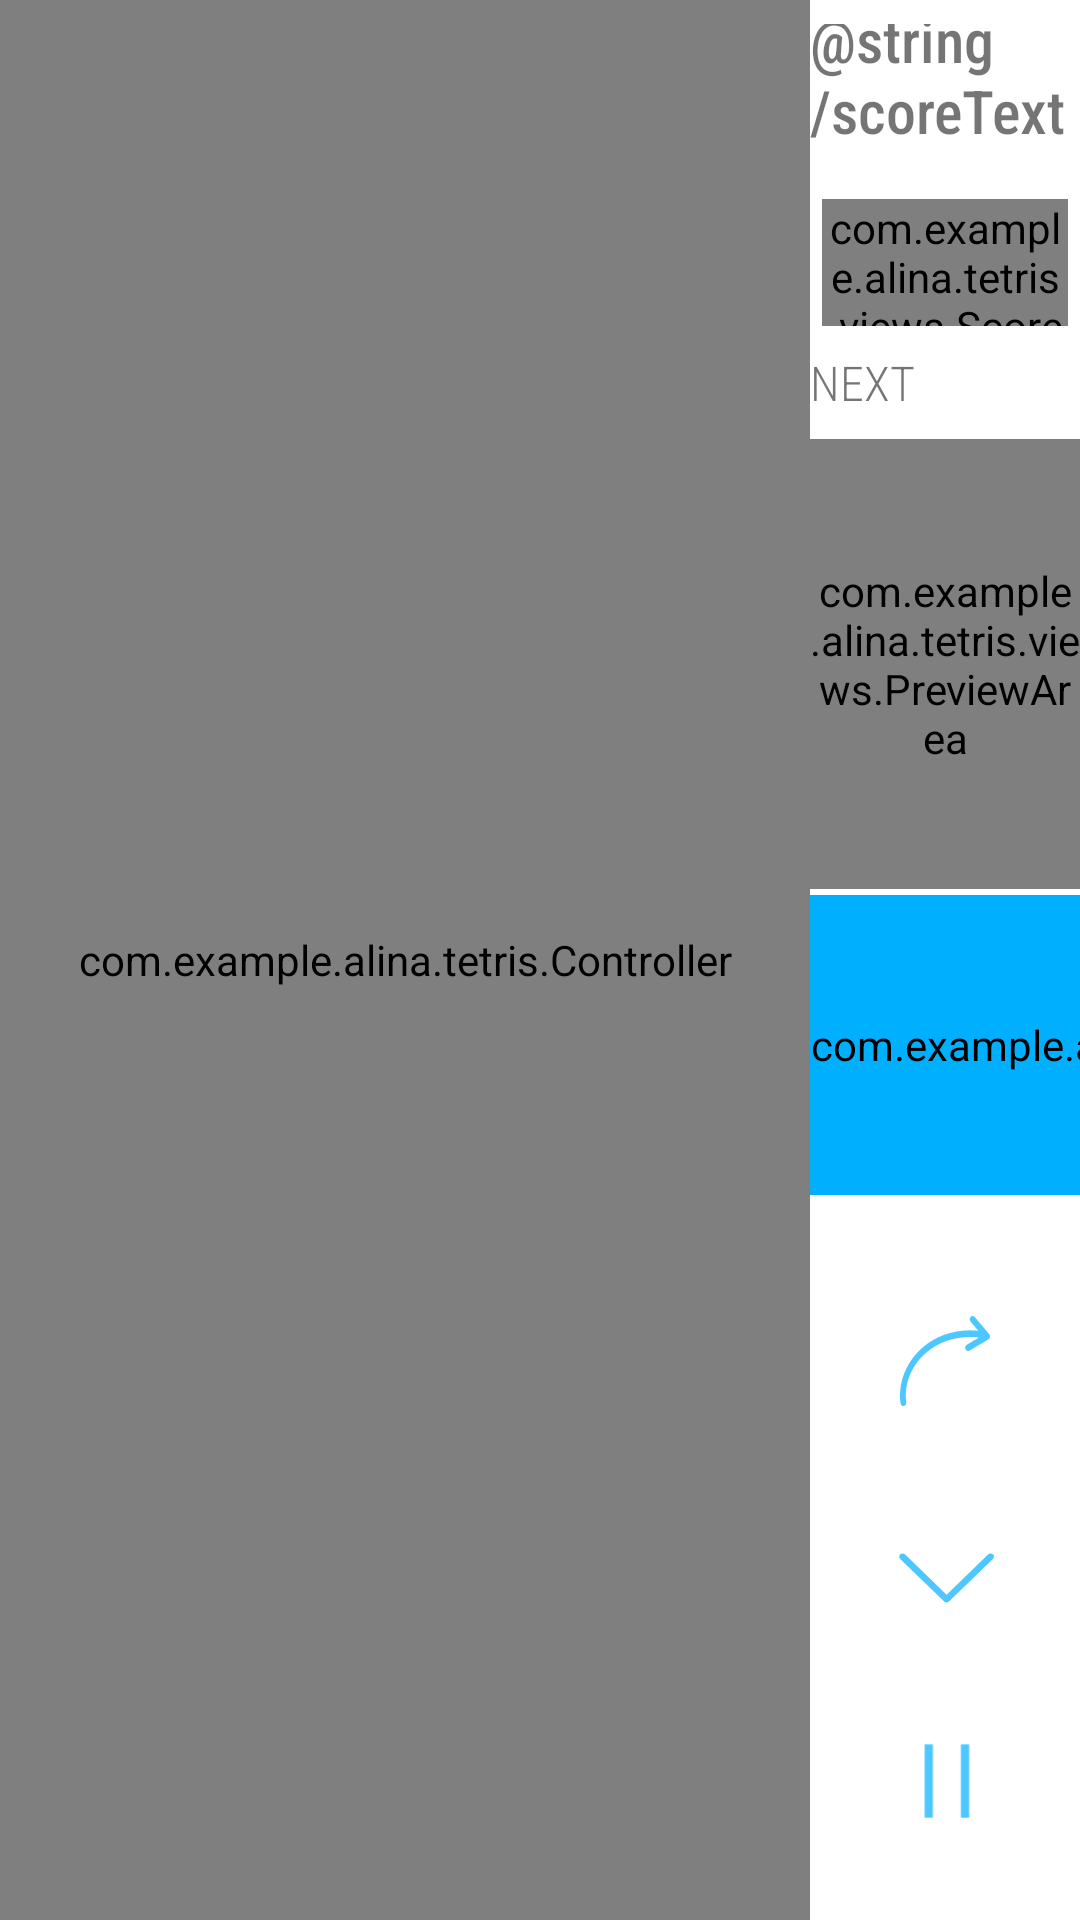

Where icons sit on this 1080px x 1920px app screen, as [x1, y1, x2, y2]:
down: [899, 1553, 994, 1603]
pause: [924, 1744, 970, 1818]
rotate: [900, 1316, 990, 1406]
